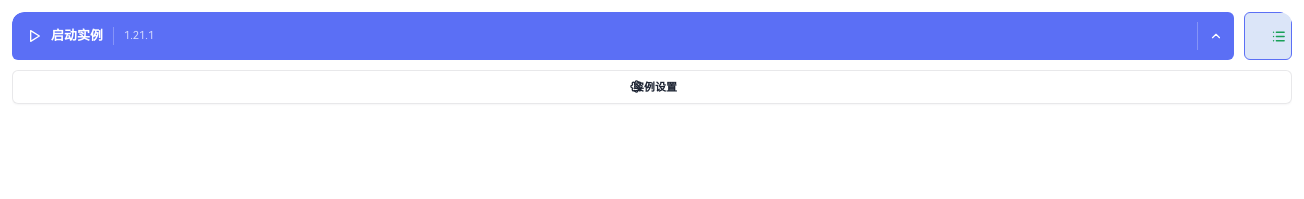
Test: GameLaunchBar › 最近实例不超过 5 个时单列展示
Click the button with class "split-arrow" at point(1216, 36), box [1198, 12, 1234, 60]
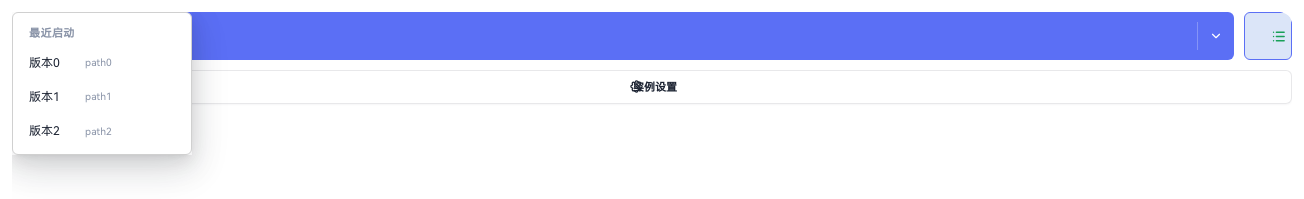
expect the element with class "recent-instances-list" is shown: met, box [19, 47, 185, 148]
expect the number of buttons with class "recent-instance-item" is 3: met, box [19, 47, 185, 80]; [19, 81, 185, 114]; [19, 115, 185, 148]
